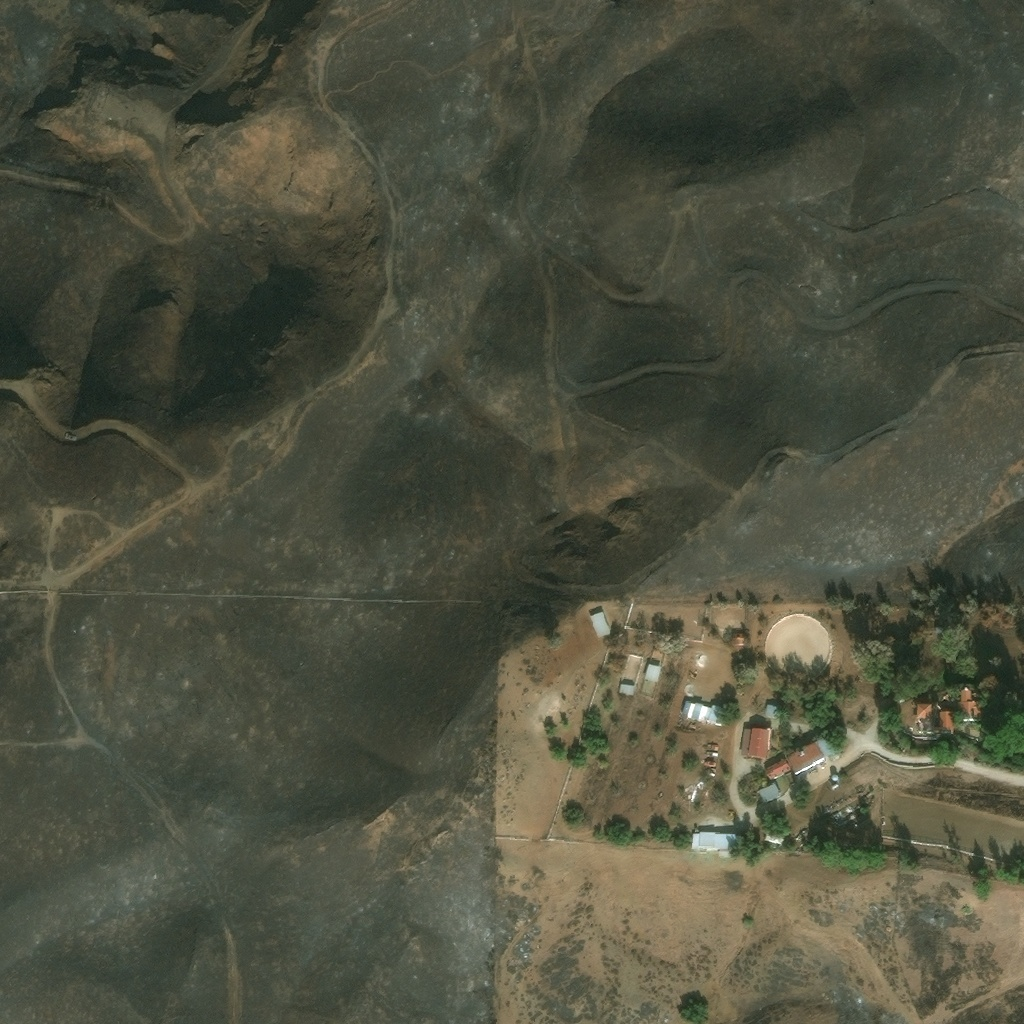0 no-damage: (784, 740, 825, 776), (741, 726, 772, 757), (956, 685, 981, 721), (691, 831, 737, 850), (814, 731, 840, 758), (764, 757, 791, 780), (589, 610, 611, 637), (757, 781, 781, 803), (938, 709, 955, 732), (917, 702, 931, 724), (644, 663, 661, 681), (680, 699, 696, 718), (707, 703, 721, 724), (690, 703, 705, 721), (764, 833, 785, 843), (619, 683, 634, 694), (701, 705, 711, 721), (731, 632, 743, 643), (767, 704, 779, 711), (831, 773, 840, 782), (831, 781, 840, 790)
4 un-classified: (699, 614, 706, 620)
